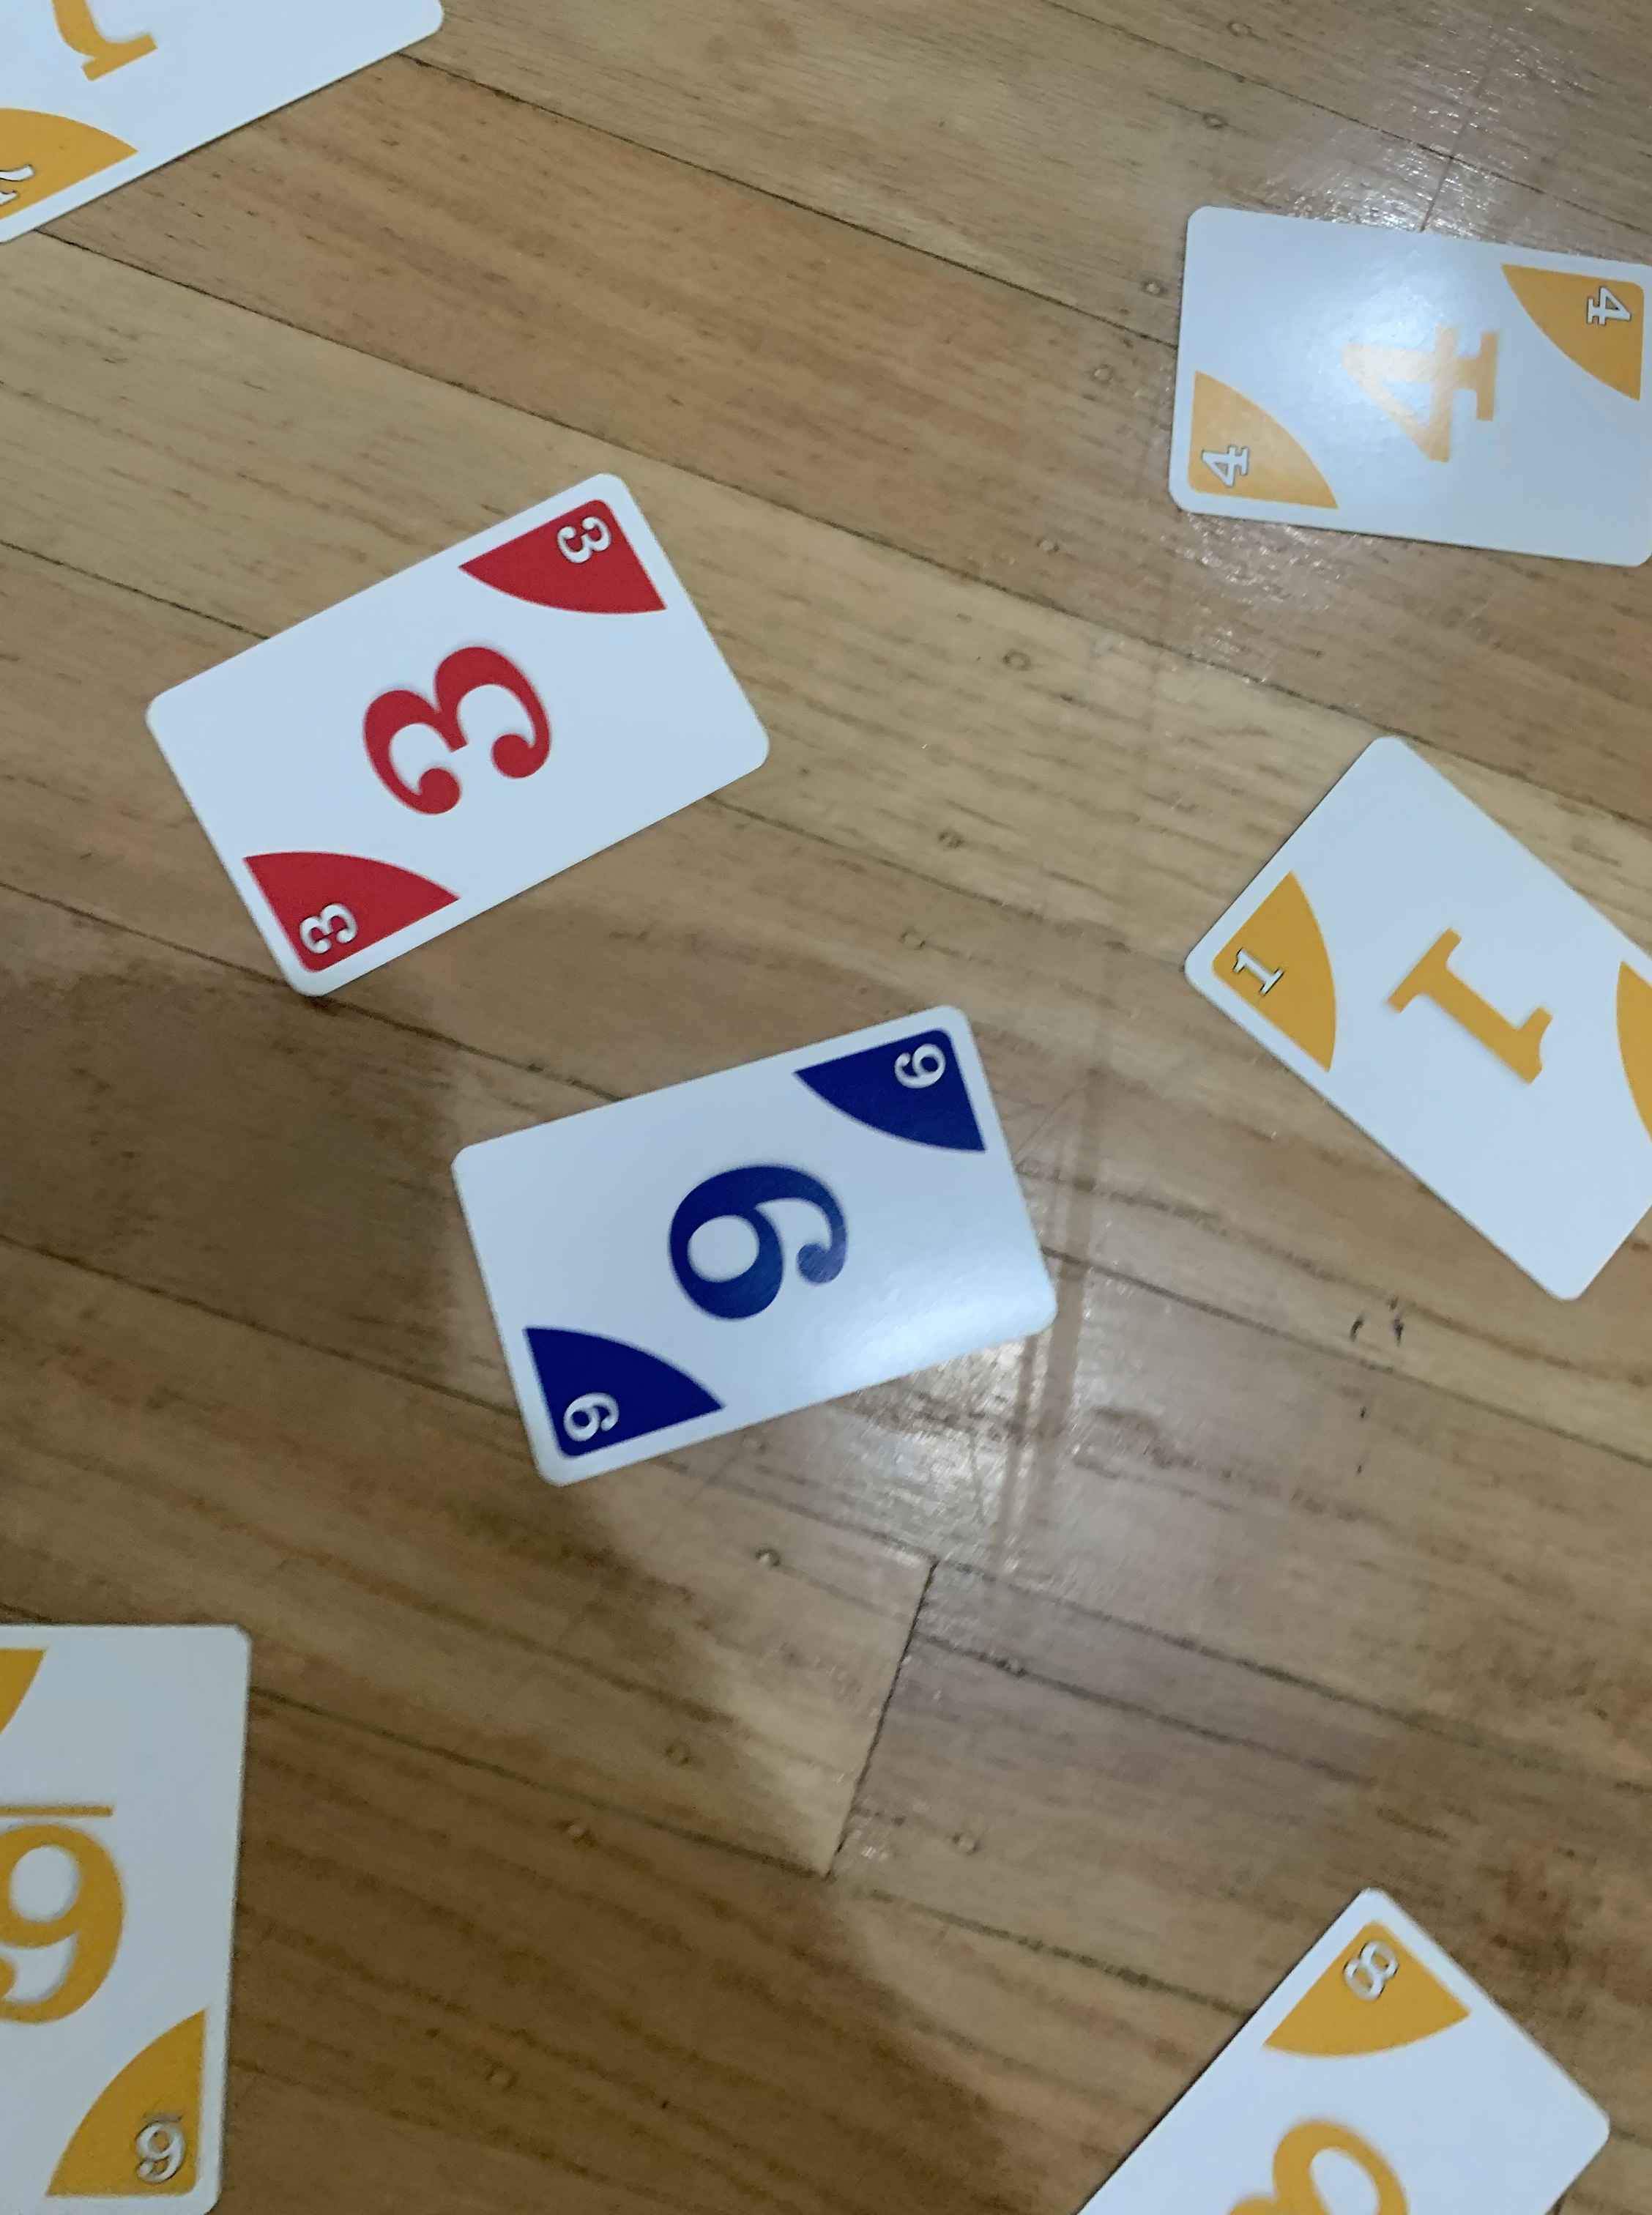four: (1157, 193, 1652, 595)
nine: (416, 1024, 1109, 1488)
one: (1152, 720, 1652, 1300)
three: (118, 450, 793, 1012)
